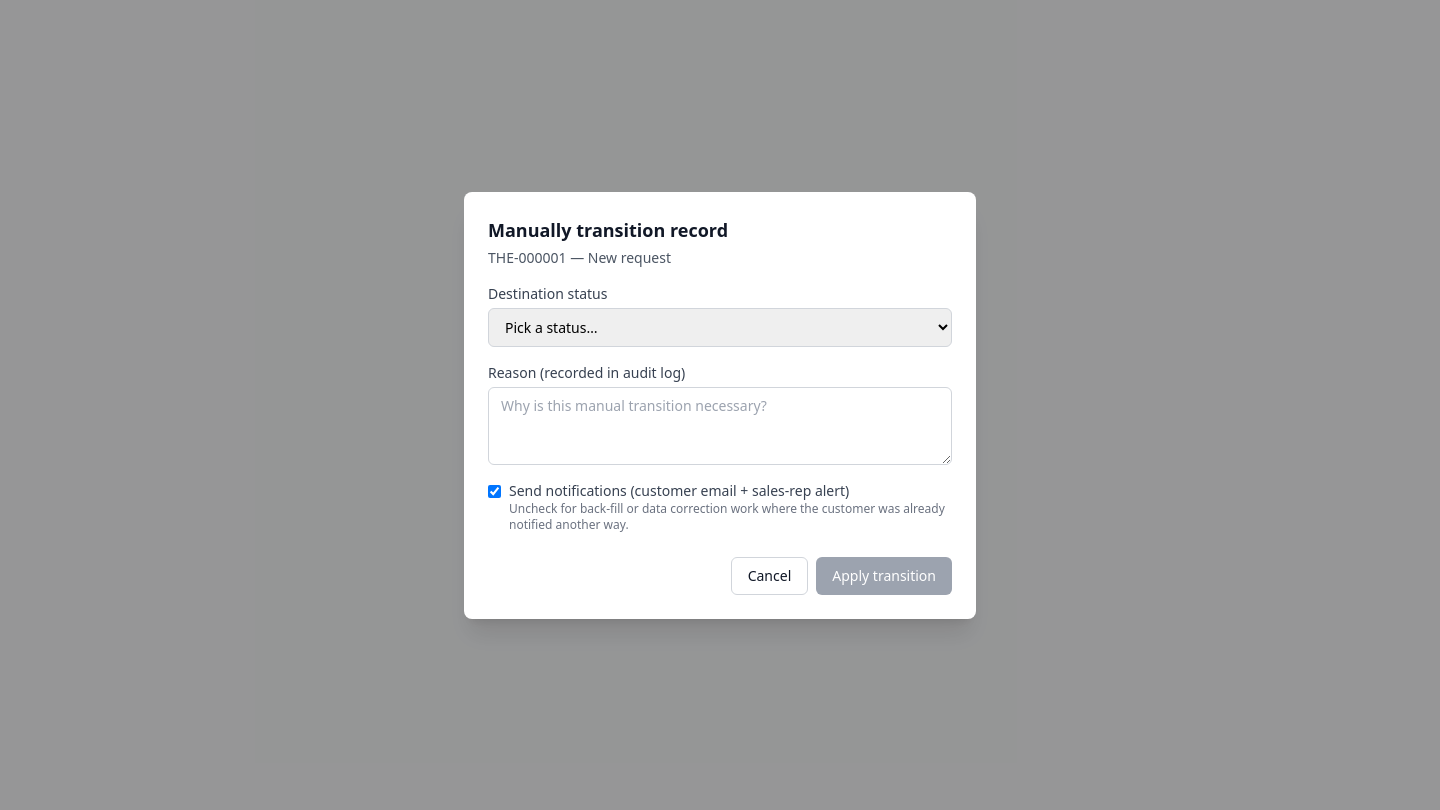
Test case: ManualTransitionModal › shows error alert when the server returns an error
Step 1. Select "An appraiser has been assigned" in the dropdown labelled "Destination status" → (720, 327), box [488, 308, 952, 346]
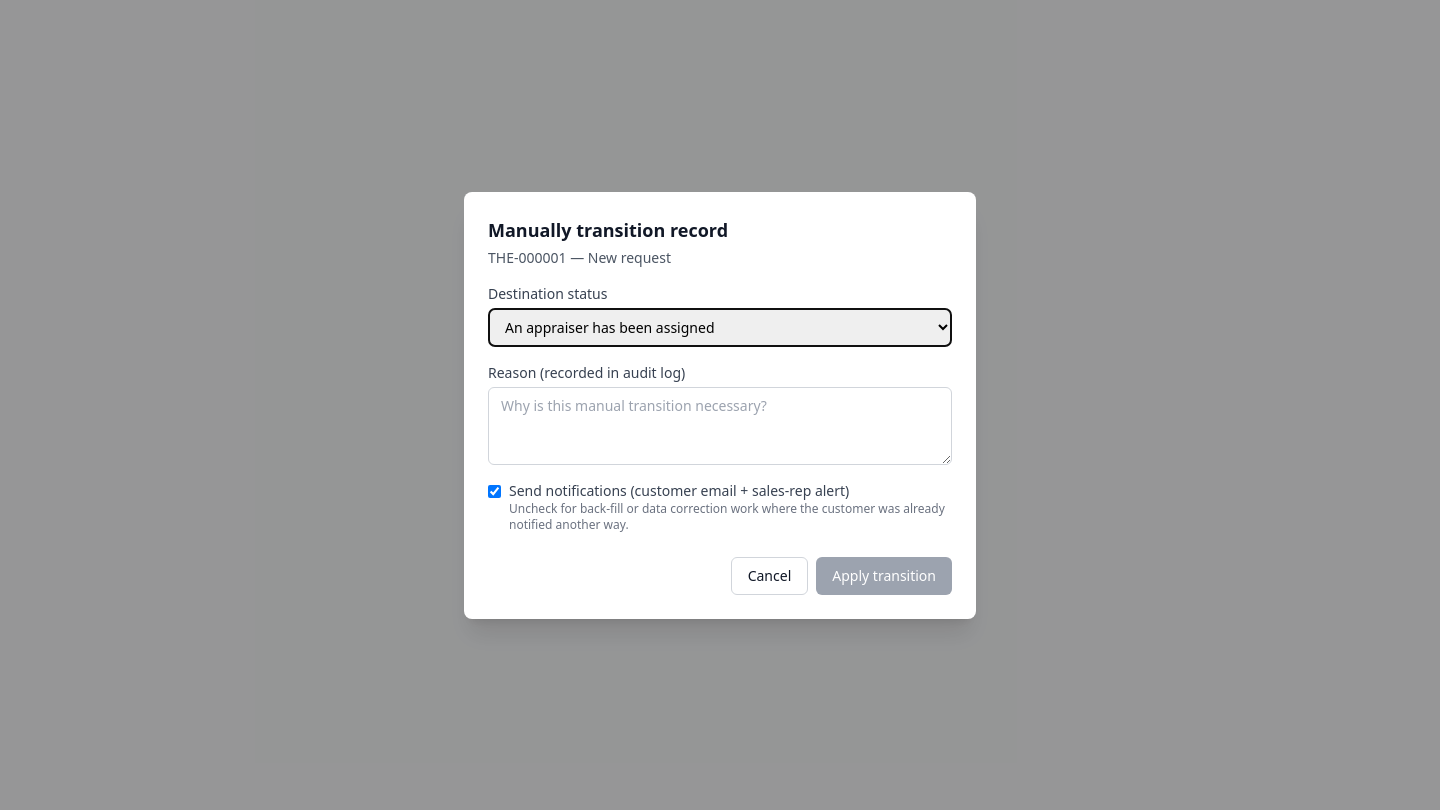
Step 2. Type "Test reason" into the text box labelled "Reason (recorded in audit log)" → (720, 426), box [488, 386, 952, 464]
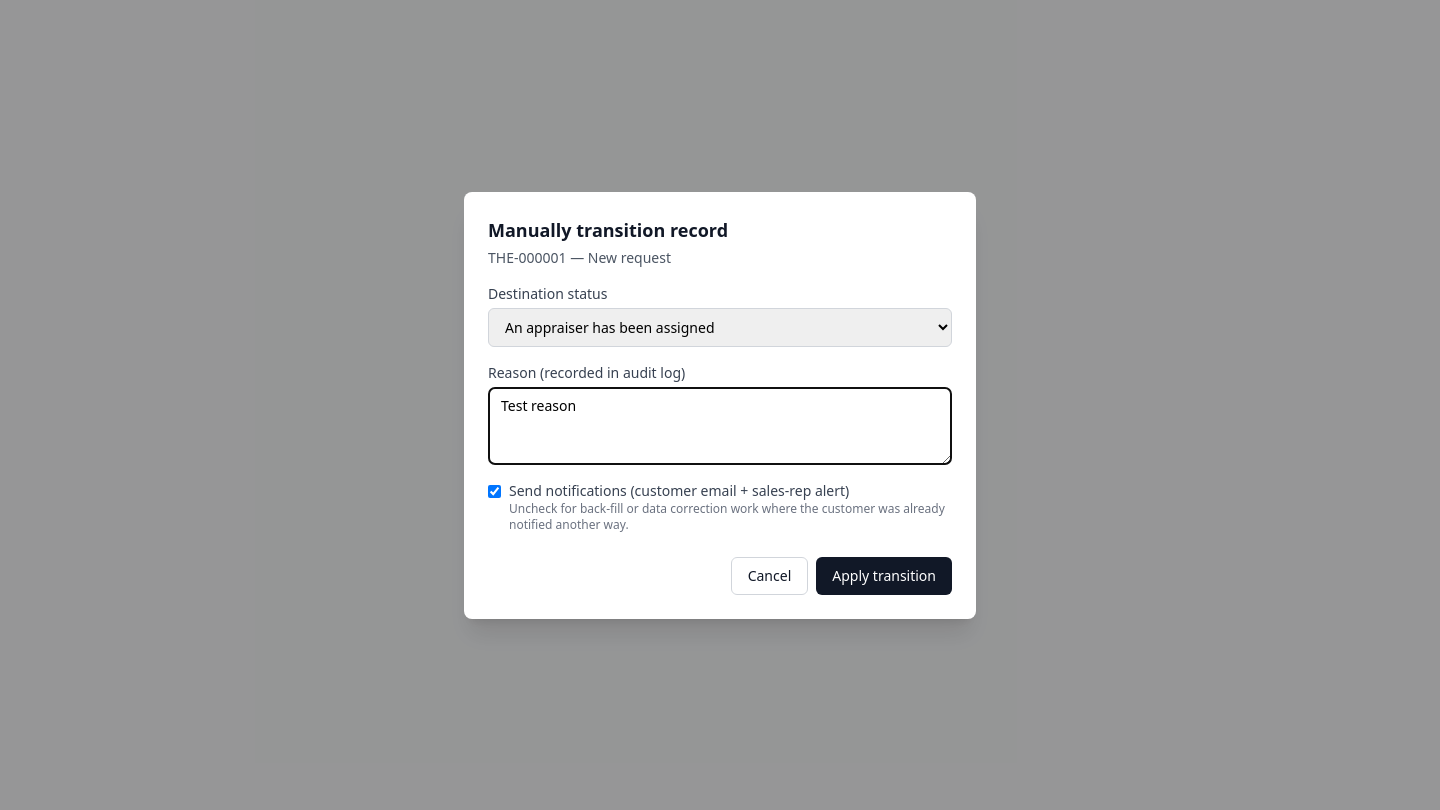
Step 3. Click the button "Apply transition" → (884, 576), box [816, 556, 952, 594]
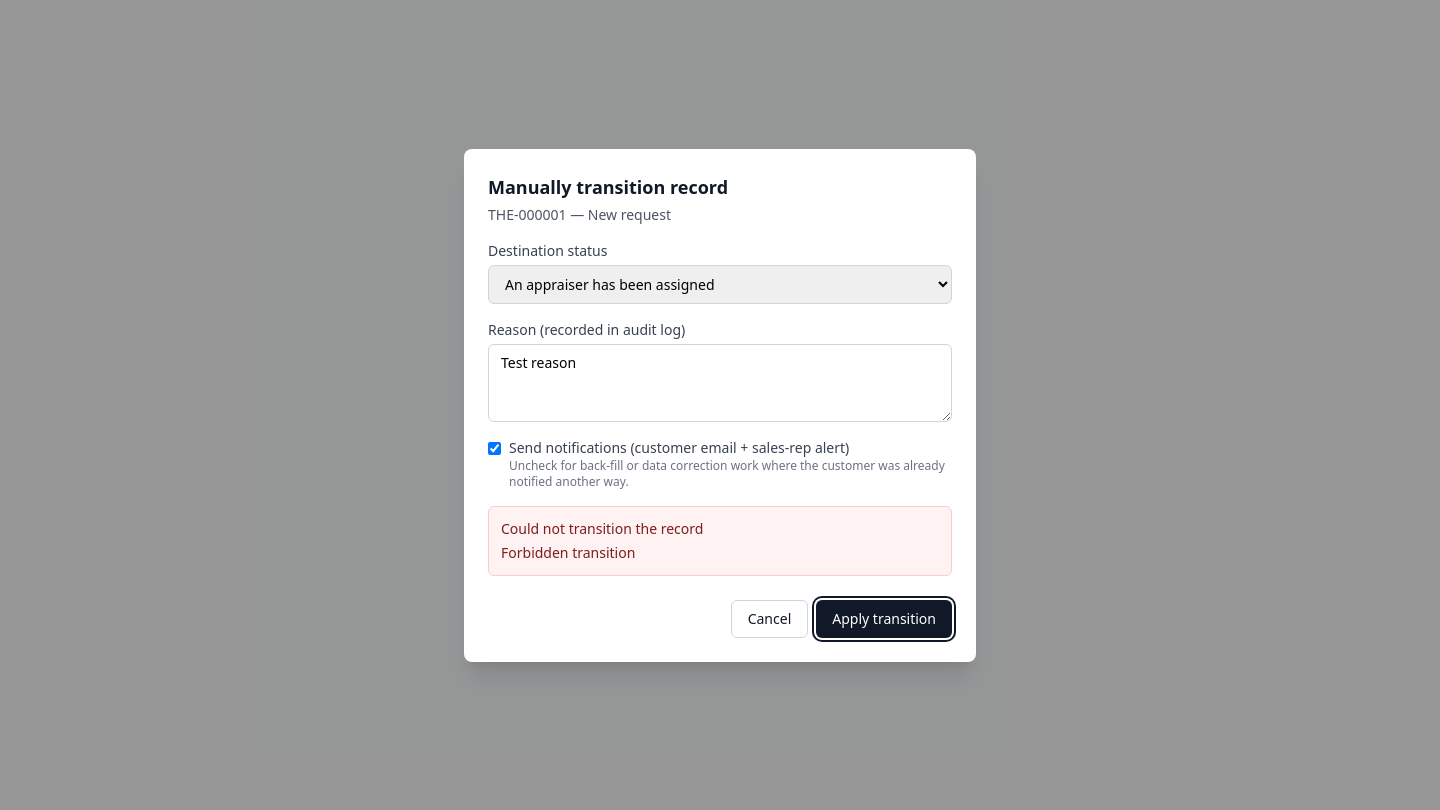
expect the message "Could not transition the record Forbidden transition" is shown: met, box [488, 506, 952, 576]
expect the text "Forbidden transition" is shown: met, box [501, 542, 635, 562]
